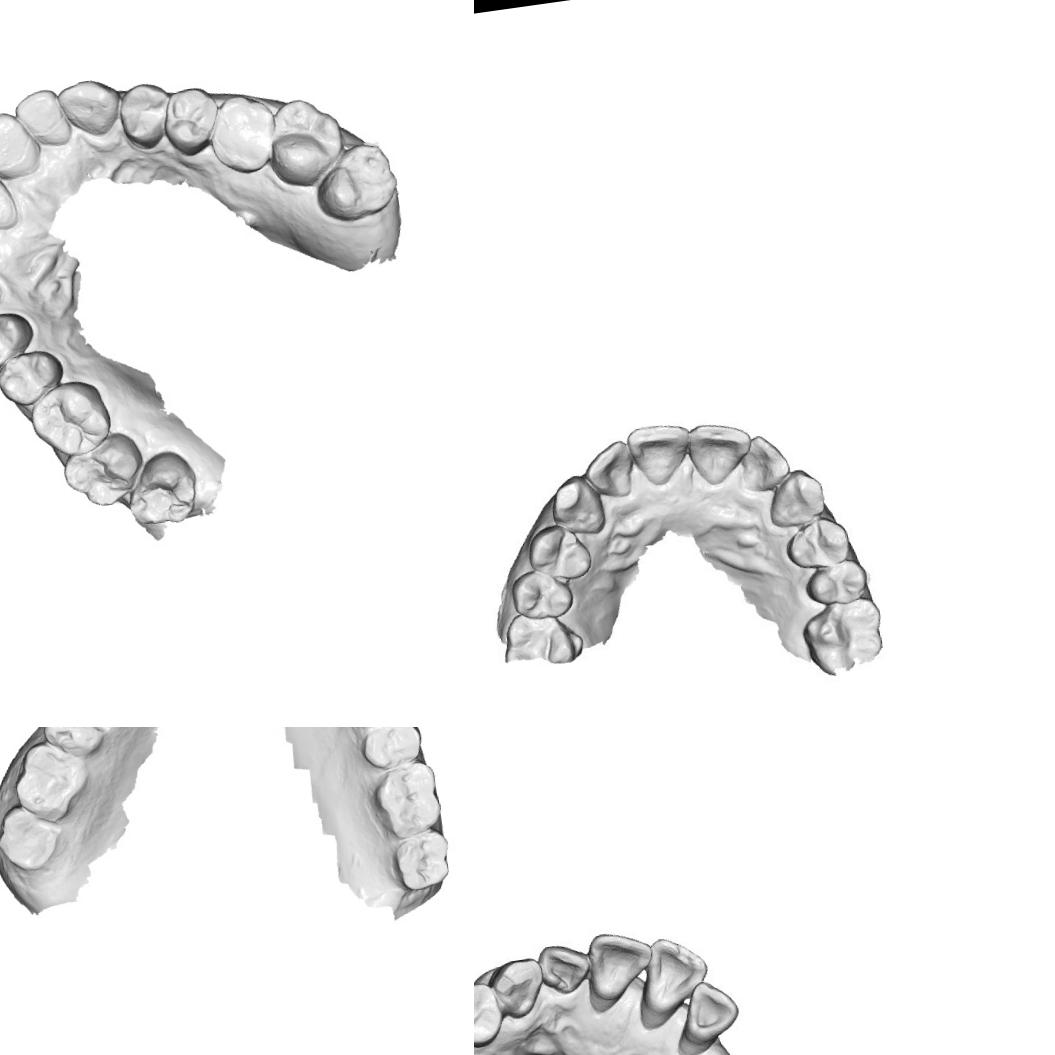canine: (54, 74, 125, 142), (762, 464, 832, 532), (544, 470, 608, 540), (484, 954, 549, 1022)
incisor: (628, 931, 716, 1032), (579, 926, 659, 1014), (668, 976, 745, 1055), (684, 417, 757, 489), (624, 418, 696, 491), (11, 85, 74, 152), (576, 436, 638, 502), (736, 430, 793, 496), (0, 107, 44, 185), (535, 940, 593, 998), (0, 151, 21, 239)
molar: (262, 94, 348, 192), (310, 138, 402, 226), (8, 734, 92, 828), (26, 376, 117, 461), (58, 428, 149, 512), (797, 596, 890, 677), (204, 90, 284, 180), (120, 446, 202, 529), (368, 758, 444, 842), (496, 607, 584, 672), (0, 798, 66, 877), (388, 826, 454, 896)
premolar: (521, 518, 596, 586), (158, 84, 224, 160), (115, 79, 176, 153), (0, 345, 68, 410), (780, 513, 853, 573), (506, 564, 576, 625), (800, 558, 871, 609), (356, 727, 424, 772), (0, 307, 38, 373), (38, 727, 107, 763), (474, 979, 506, 1052)
